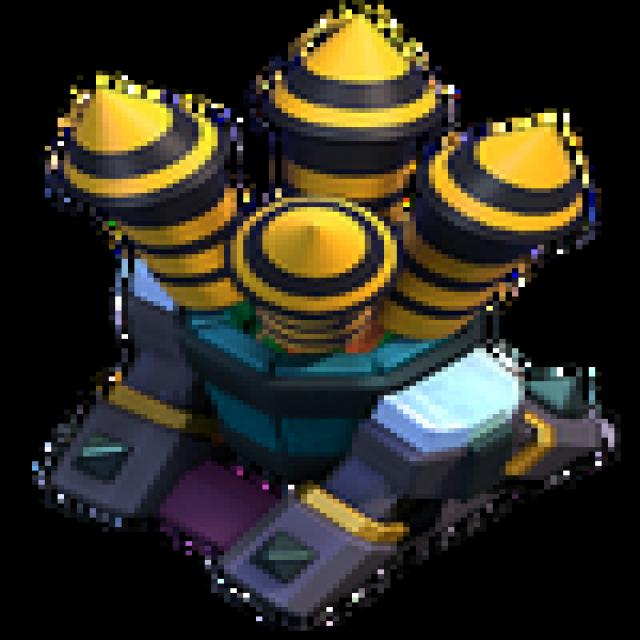air_defense: (32, 0, 614, 621)
